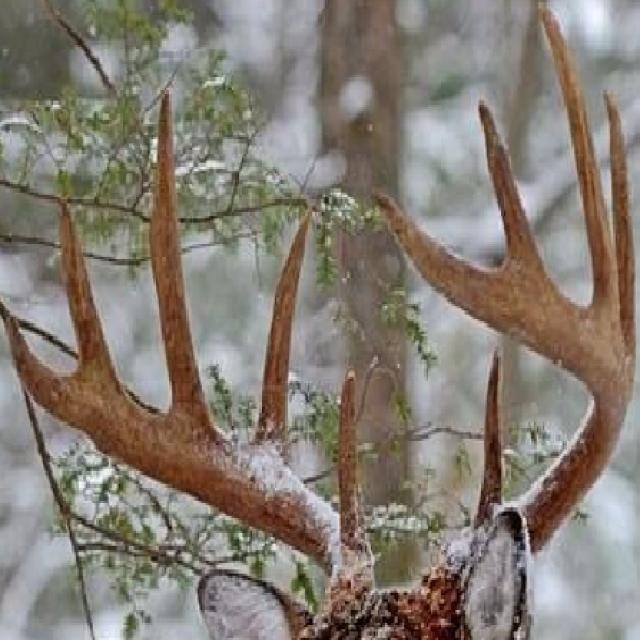L-G1: (475, 346, 505, 518)
L-G2: (602, 84, 637, 386)
L-G3: (540, 7, 620, 334)
L-G4: (476, 96, 550, 280)
R-F: (0, 297, 377, 612)
R-G1: (338, 365, 360, 527)
R-G2: (250, 214, 311, 471)
R-G3: (148, 85, 219, 428)
R-G4: (57, 191, 131, 391)
